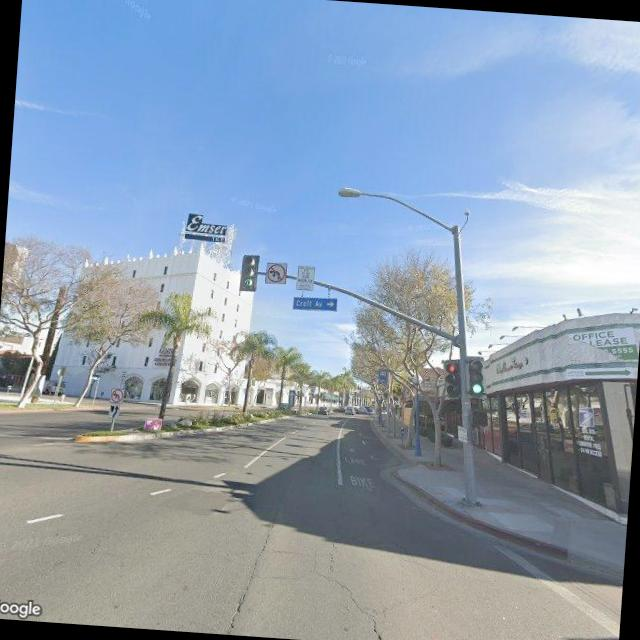pothole: (307, 533, 430, 640), (215, 504, 276, 636)
